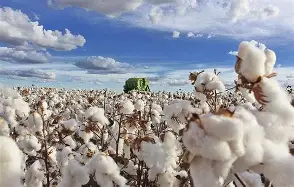crops: (0, 39, 291, 184)
